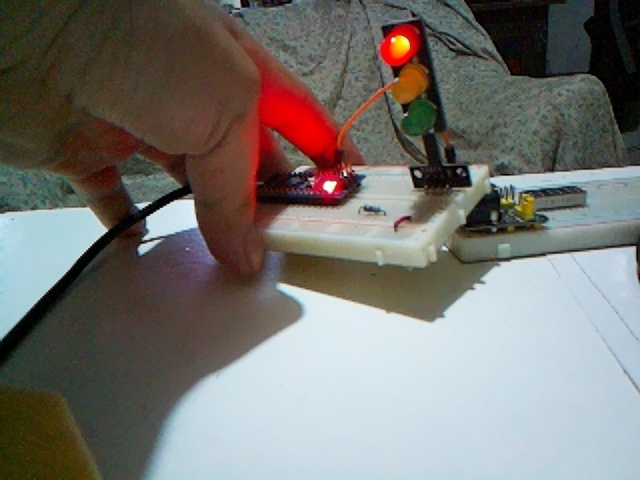traffic_light_red: (379, 16, 447, 163)
